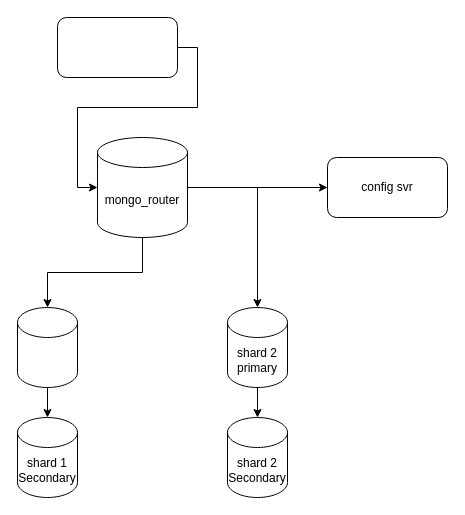
The diagram is 465 pixels wide and 515 high, and some of its shapes have lost their labels. The centre of each missing label's shape, as x and y in pixels:
"pymongo-api" belongs at pixel 117 47.
"shard 1 primary" belongs at pixel 47 347.
